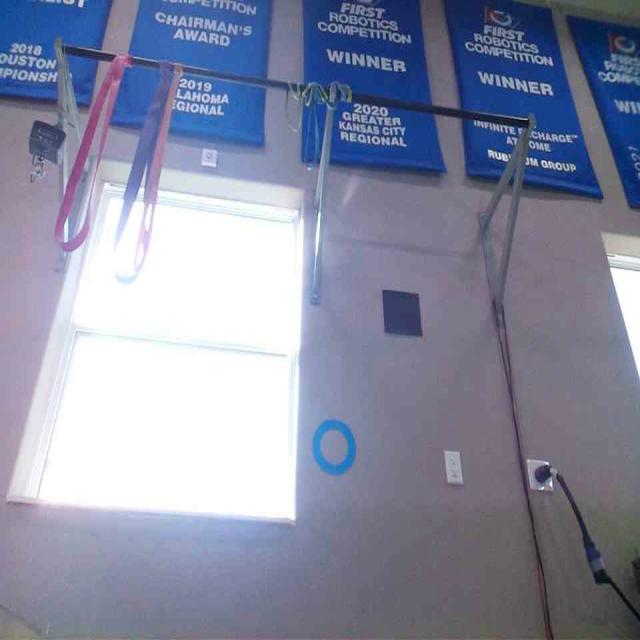ring_blue: (311, 418, 355, 474)
square_black: (382, 289, 424, 337)
